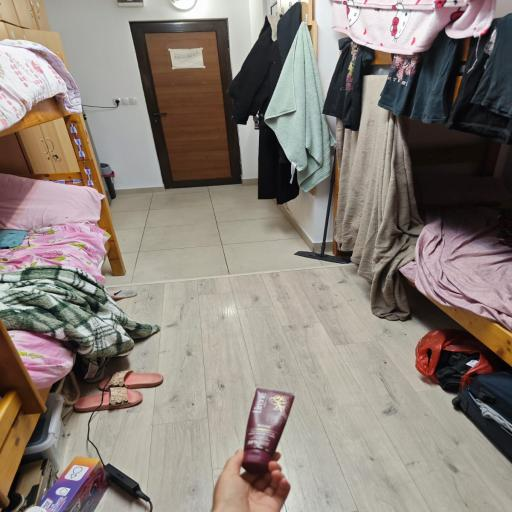Crema Maini: (246, 386, 294, 470)
